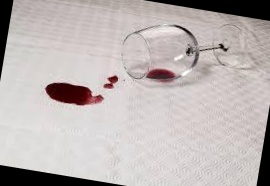wine: (35, 69, 120, 116), (101, 69, 119, 90)
